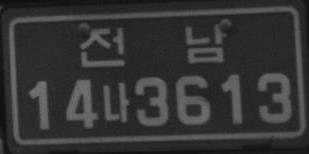1: (218, 73, 249, 125), (26, 79, 55, 130)
3: (256, 71, 292, 125), (134, 75, 169, 128)
4: (65, 78, 98, 129)
6: (175, 74, 212, 126)
나: (101, 81, 129, 124)
전남_D: (79, 21, 229, 68)
